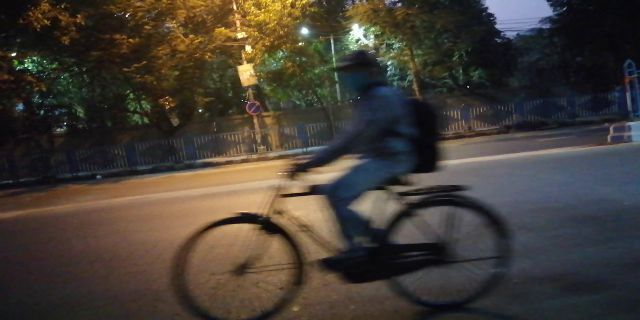Cycle: (169, 48, 520, 311)
